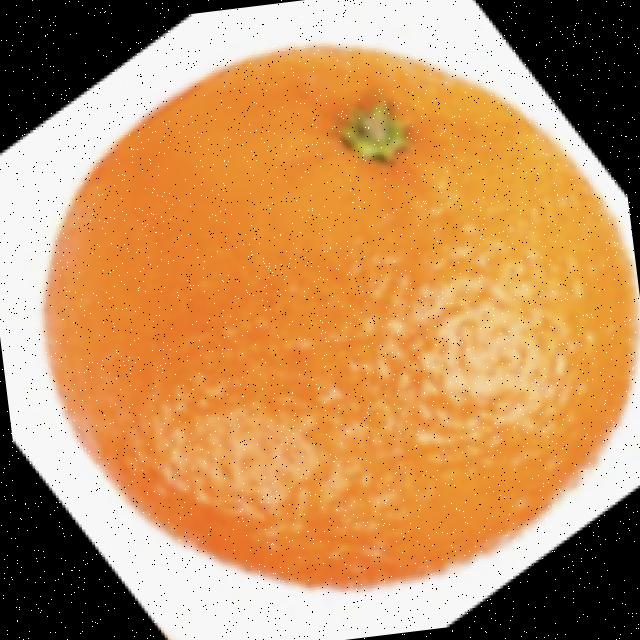orange: (8, 9, 640, 629)
